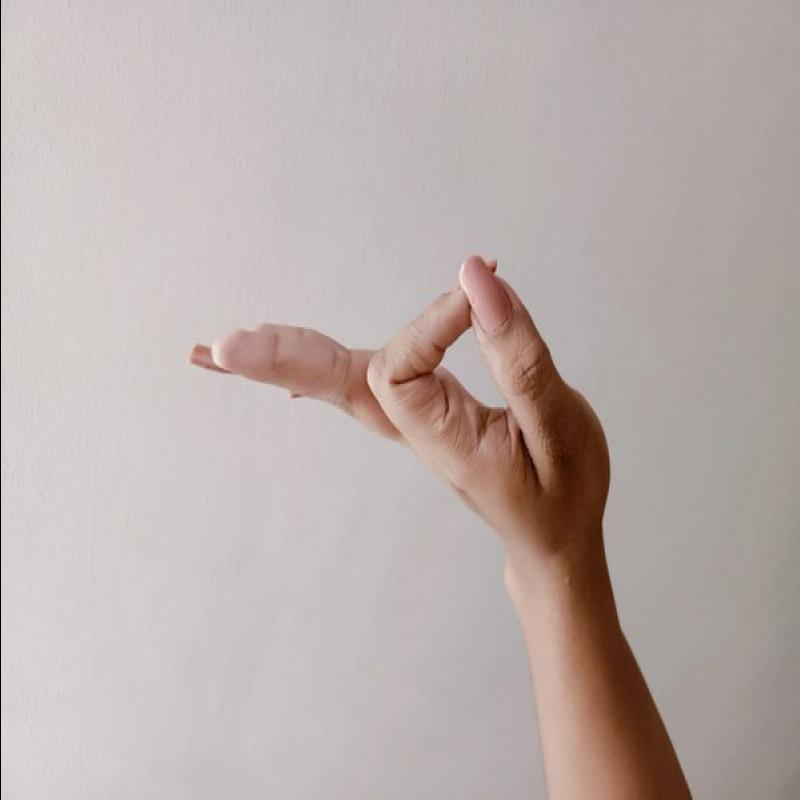Mudraakhyam: (173, 243, 621, 560)
